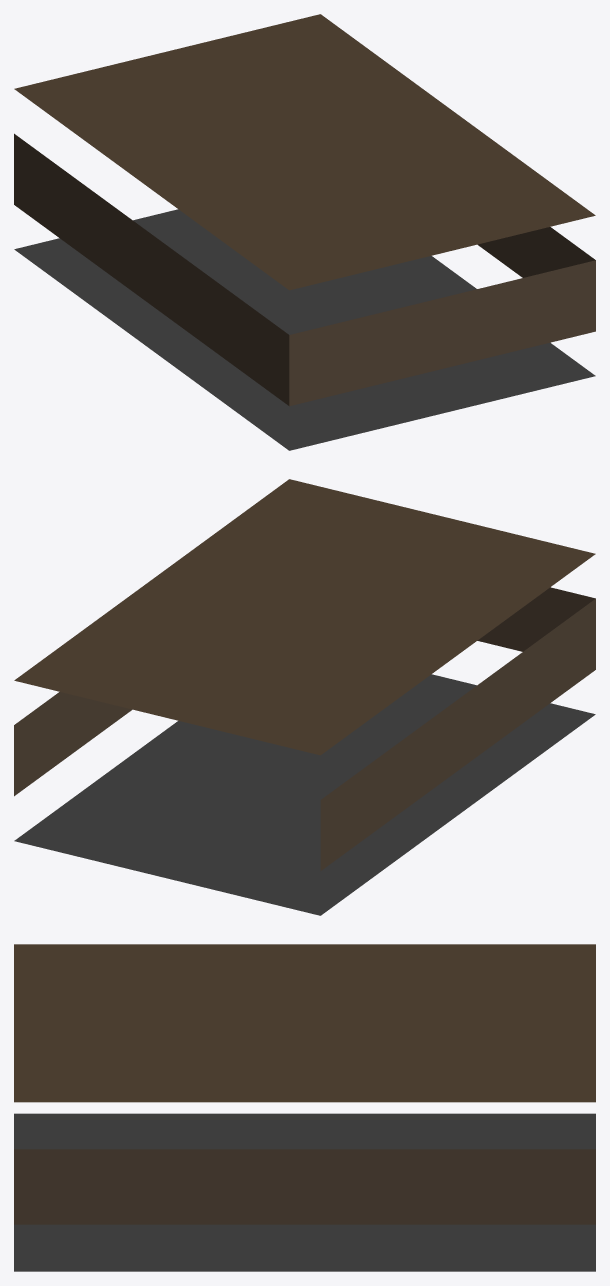
The model's file is room-castle.glb.
The picture shows the model from 3 angles, top to bottom: view 1: azimuth 30°, elevation 25°; view 2: azimuth 150°, elevation 25°; view 3: azimuth 270°, elevation 25°; orthographic projection. The views are drawn at different scales.
Visible parts, largest first — view 1: Plane; view 2: Plane; view 3: Plane.
Part boxes in pixels (<box>): Plane: <box>14,14,595,450</box>; Plane: <box>14,479,595,915</box>; Plane: <box>14,944,595,1271</box>.
Bounding box in the file's own units: 9 × 4.5 × 14.
